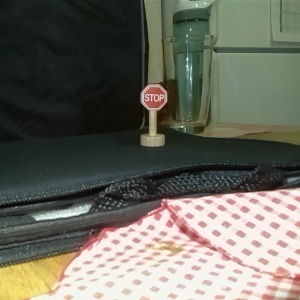stop sign: (138, 81, 168, 150)
